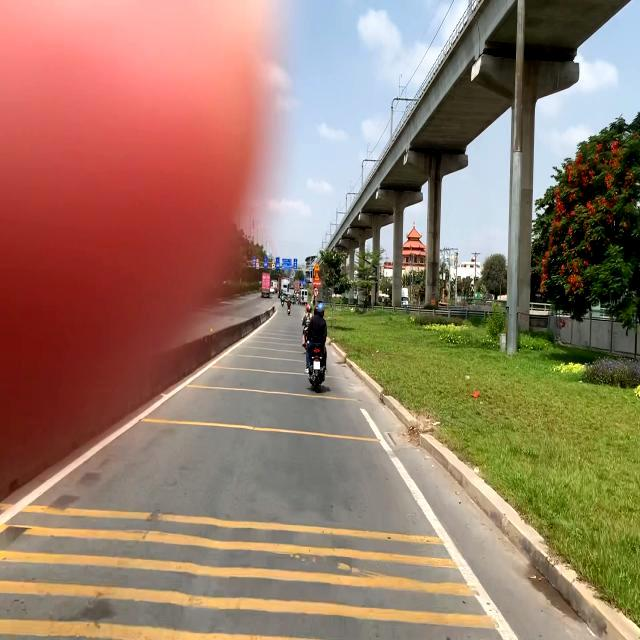Cam re phai: (313, 288, 319, 298)
Di cham: (314, 272, 320, 280)
Giao nhau voi duong khong uu tien ben phai: (314, 262, 320, 272)
